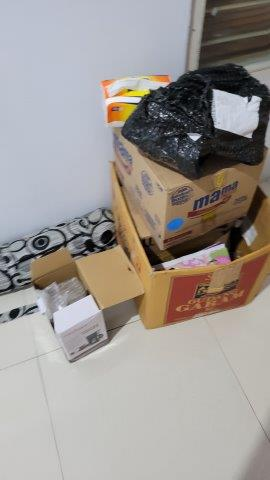kardus: (111, 133, 270, 329), (29, 248, 141, 361)
kertas: (210, 88, 262, 141)
